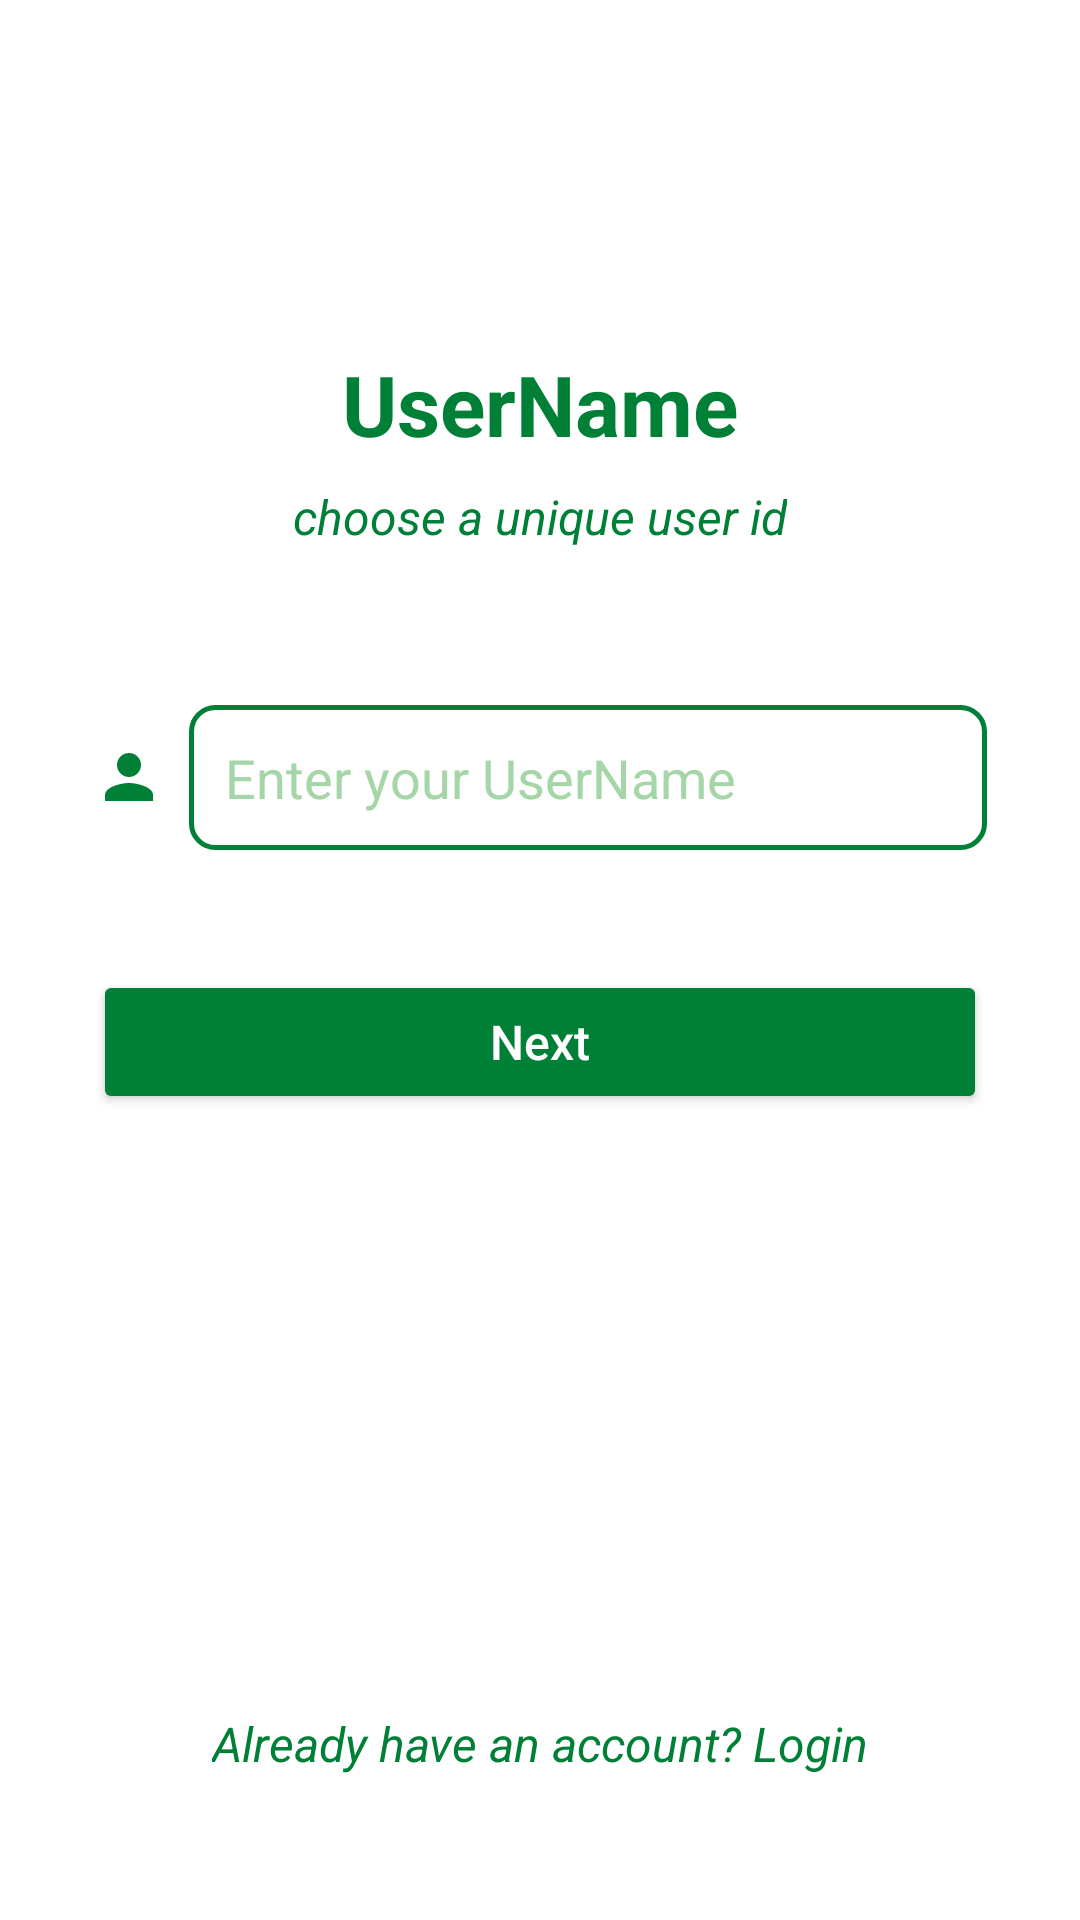

Named icons in this screenshot (1080 × 1920) and their bounding boxes, (x1, y1, x2, y2):
person: (105, 753, 153, 801)
